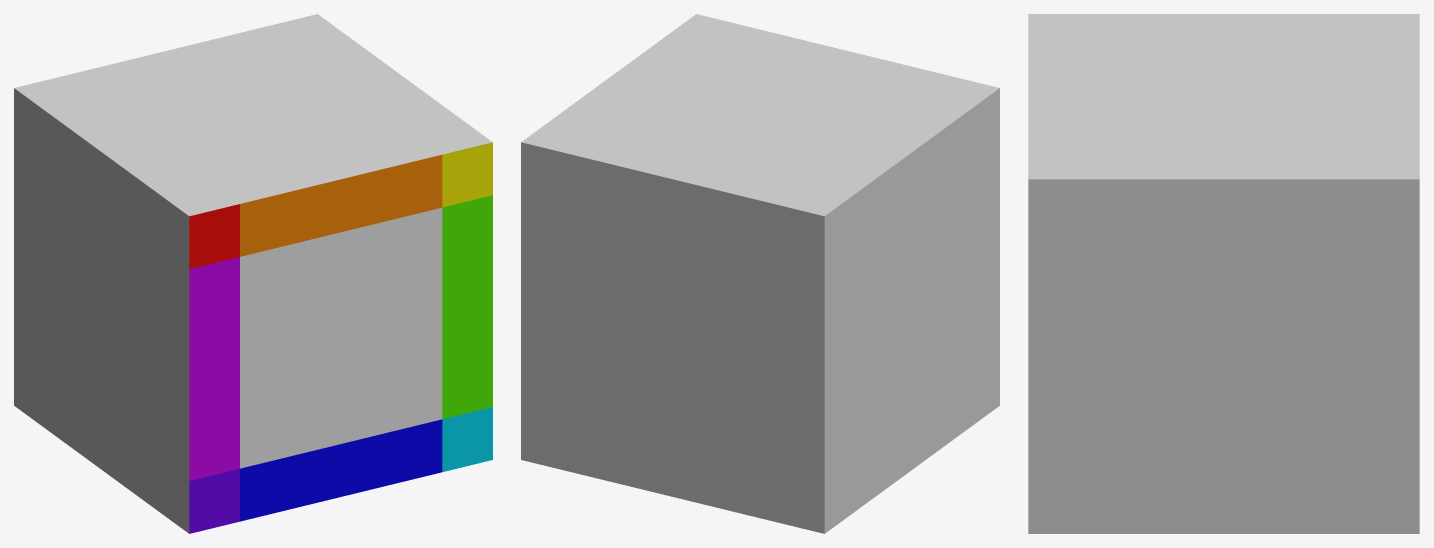
Rendered from Platform.fbx.
3 views of the same model, side by side, from view 1: azimuth 30°, elevation 25°; view 2: azimuth 150°, elevation 25°; view 3: azimuth 270°, elevation 25° (orthographic). The views are drawn at different scales.
Visible parts, largest first — view 1: Cube; view 2: Cube; view 3: Cube.
Boxes of the visible parts, box(x1,y1,x2,y2) form: Cube: box(14, 14, 492, 533); Cube: box(521, 14, 999, 533); Cube: box(1028, 14, 1419, 533).
Size of the model in its own units: 200 by 200 by 200.
